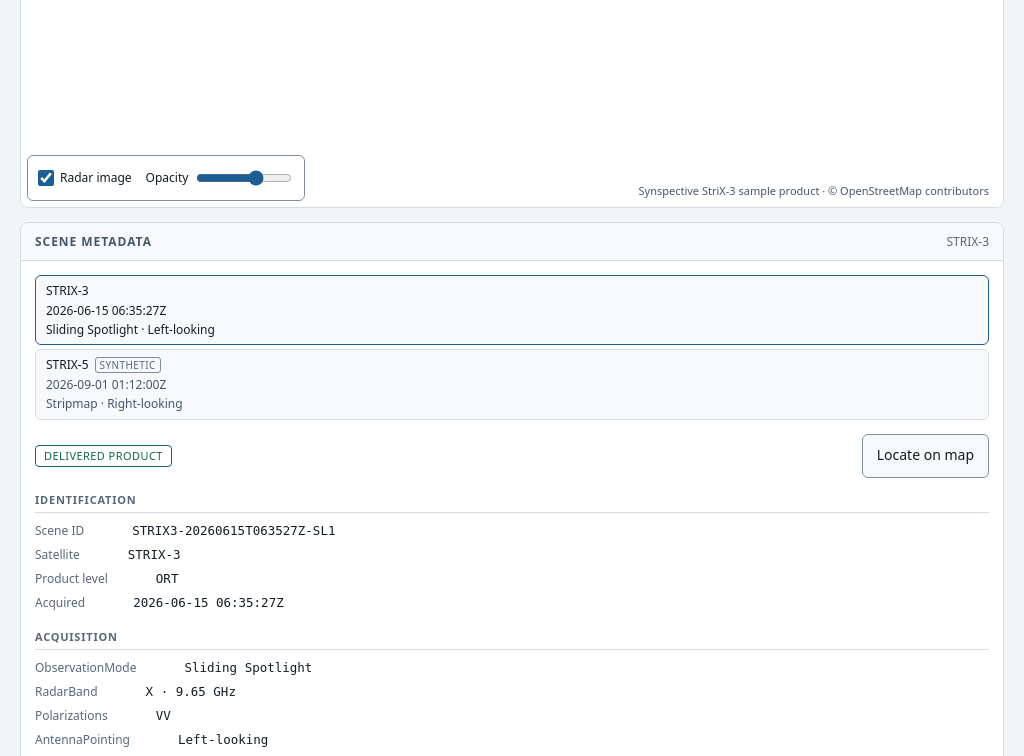
Test: App with one feed down › draws the radar image for the delivered scene and not for a synthetic one
(page scrolled)
Check: the checkbox labelled "Radar image" is shown, box [38,170,54,186]
Step 1. Click the button "STRIX-5" → (67, 365), box [35,349,989,420]
(page scrolled)
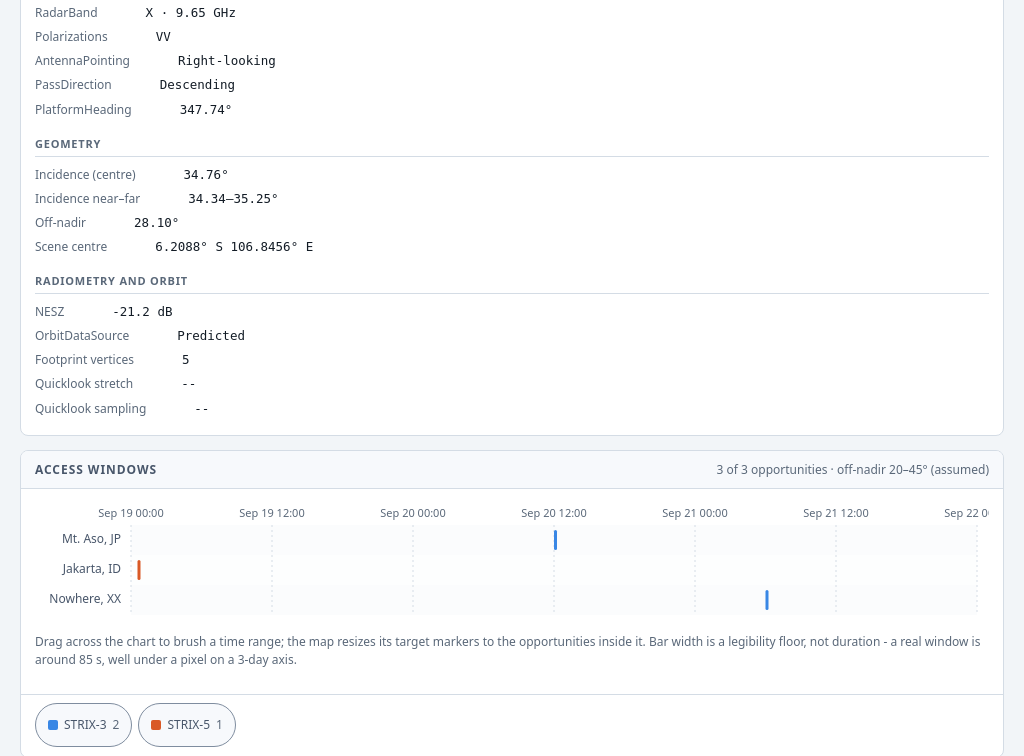
Check: the text "--" next to "Quicklook stretch" is shown, box [181,376,196,392]
Check: the label "Radar image" is gone
